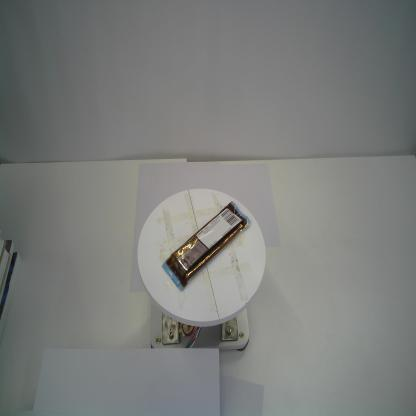Chocolate: (160, 199, 252, 292)
